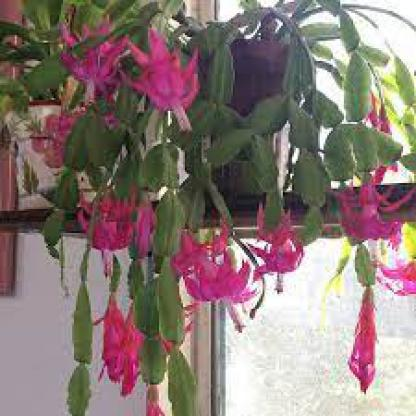Aglonema: (5, 23, 413, 342)
